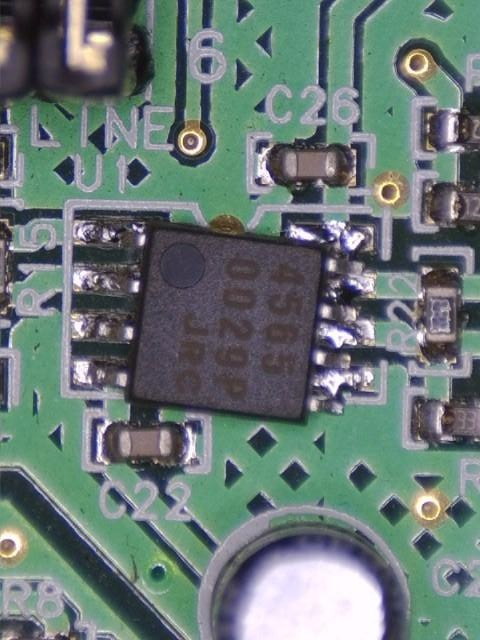pcb_defect: (68, 220, 377, 425), (288, 223, 375, 415)
